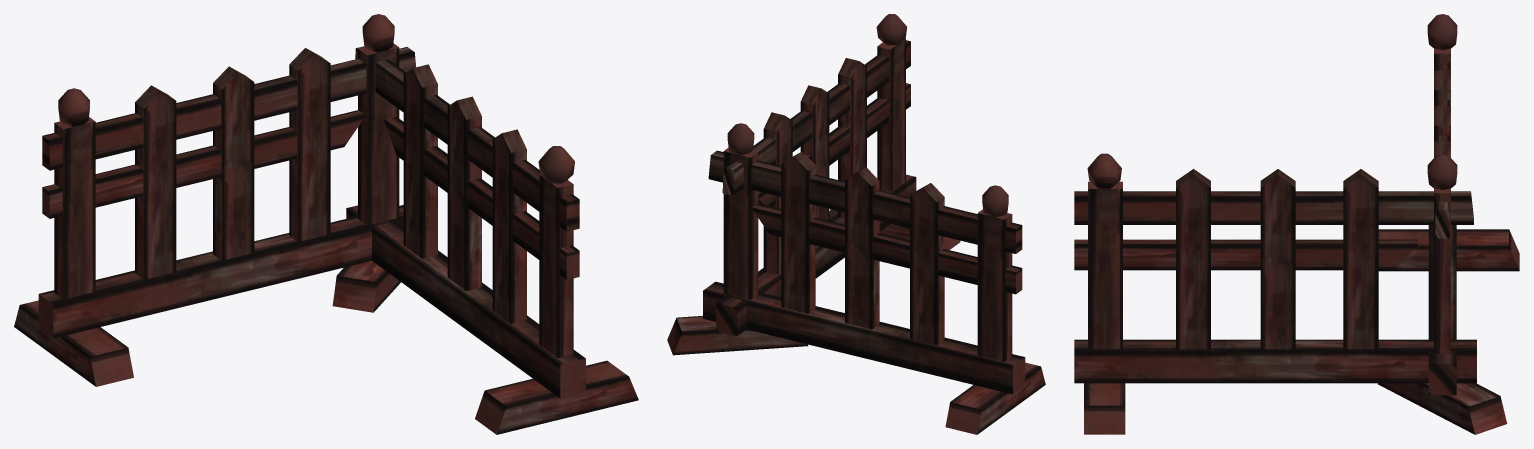
File: STR_RailingWoodC.FBX
3 renders of one model, left to right at view 1: azimuth 30°, elevation 25°; view 2: azimuth 150°, elevation 25°; view 3: azimuth 270°, elevation 25°, orthographic. The views are drawn at different scales.
Parts seen in each view (by area): view 1: STR_RailingWoodC; view 2: STR_RailingWoodC; view 3: STR_RailingWoodC.
Boxes of the visible parts, x1,y1,x2,y2 form: STR_RailingWoodC: (14, 14, 638, 434); STR_RailingWoodC: (667, 14, 1045, 434); STR_RailingWoodC: (1074, 14, 1519, 434).
Bounding box in the file's own units: 242 × 151 × 246.
1 material, 1 textured.
